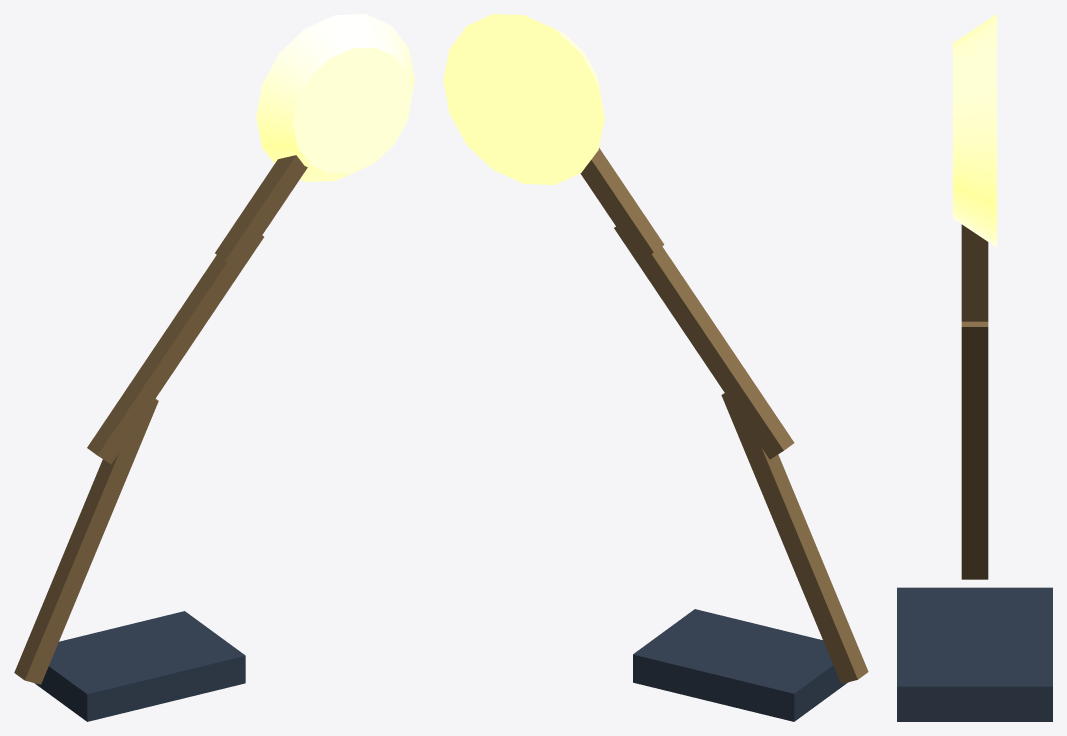
File: sensor_lamp.glb
3 renders of one model, left to right at view 1: azimuth 30°, elevation 25°; view 2: azimuth 150°, elevation 25°; view 3: azimuth 270°, elevation 25°, orthographic. The views are drawn at different scales.
Visible parts, largest first — view 1: sensor_lamp_head, sensor_lamp, sensor_lamp_base; view 2: sensor_lamp_head, sensor_lamp, sensor_lamp_base; view 3: sensor_lamp_base, sensor_lamp, sensor_lamp_head.
Boxes of the visible parts, left/top/right/bottom form: sensor_lamp_head: left=256, top=14, right=414, bottom=181; sensor_lamp: left=14, top=155, right=307, bottom=684; sensor_lamp_base: left=34, top=611, right=245, bottom=721; sensor_lamp_head: left=443, top=14, right=604, bottom=184; sensor_lamp: left=580, top=148, right=868, bottom=683; sensor_lamp_base: left=633, top=609, right=847, bottom=721; sensor_lamp_base: left=897, top=587, right=1052, bottom=721; sensor_lamp: left=961, top=224, right=988, bottom=579; sensor_lamp_head: left=953, top=14, right=996, bottom=247.
Size of the model in its own units: 1.22 by 1.76 by 0.32.
